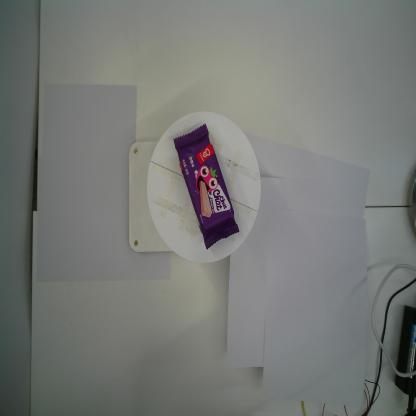Dessert: (174, 124, 240, 252)
